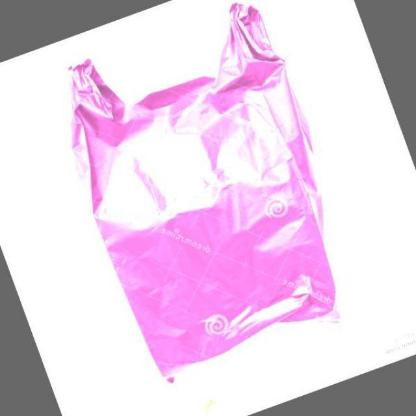Plastic Bag: (65, 0, 343, 384)
